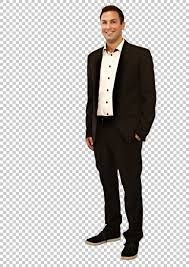F_M_suit jacket: (79, 47, 164, 137)
F_shirt: (100, 43, 123, 118)
S_W_pants: (94, 128, 149, 239)
